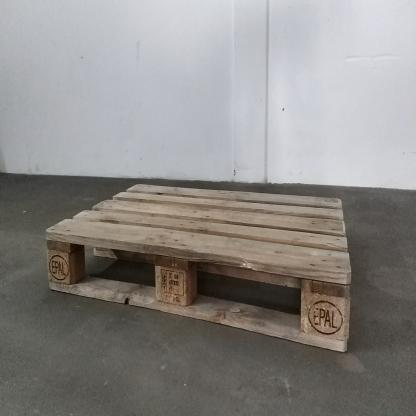BoxFace: (44, 176, 358, 362)
